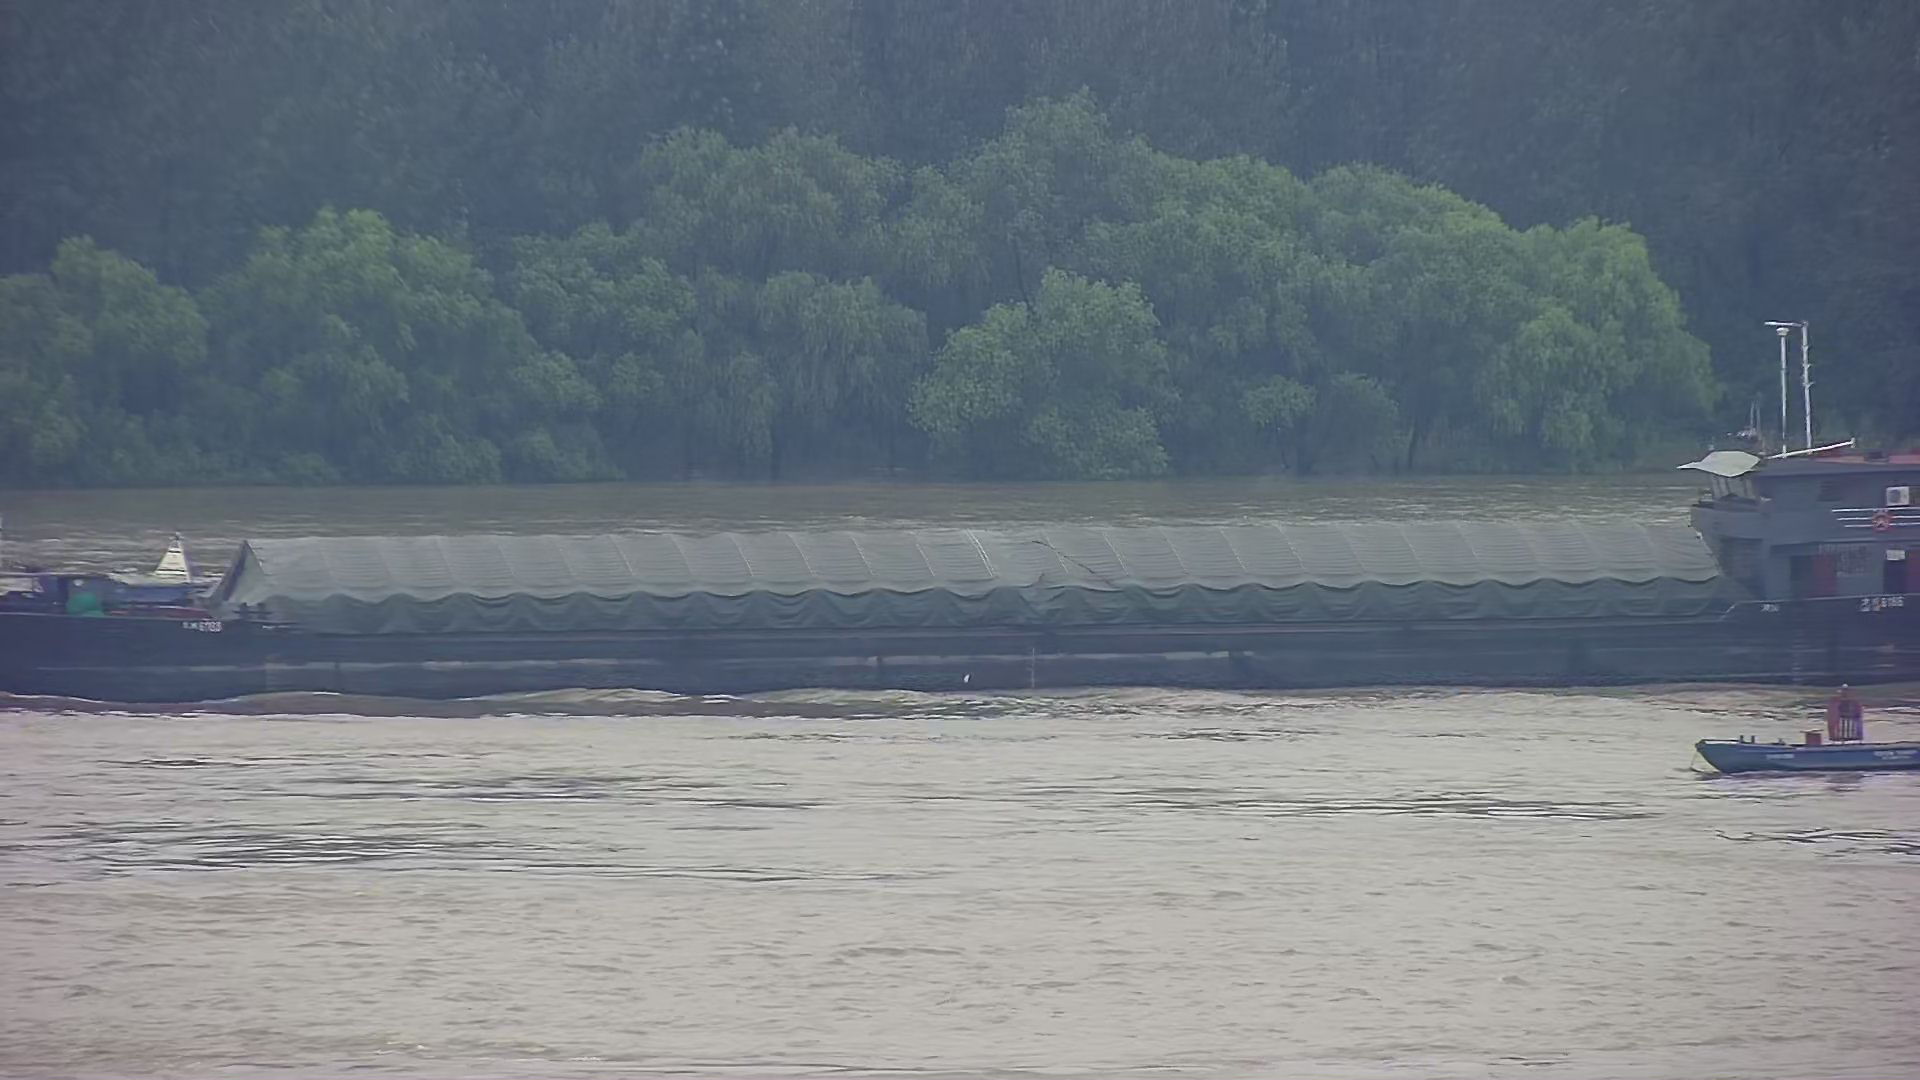boat: (1688, 676, 1920, 781)
ship: (9, 307, 1916, 702)
